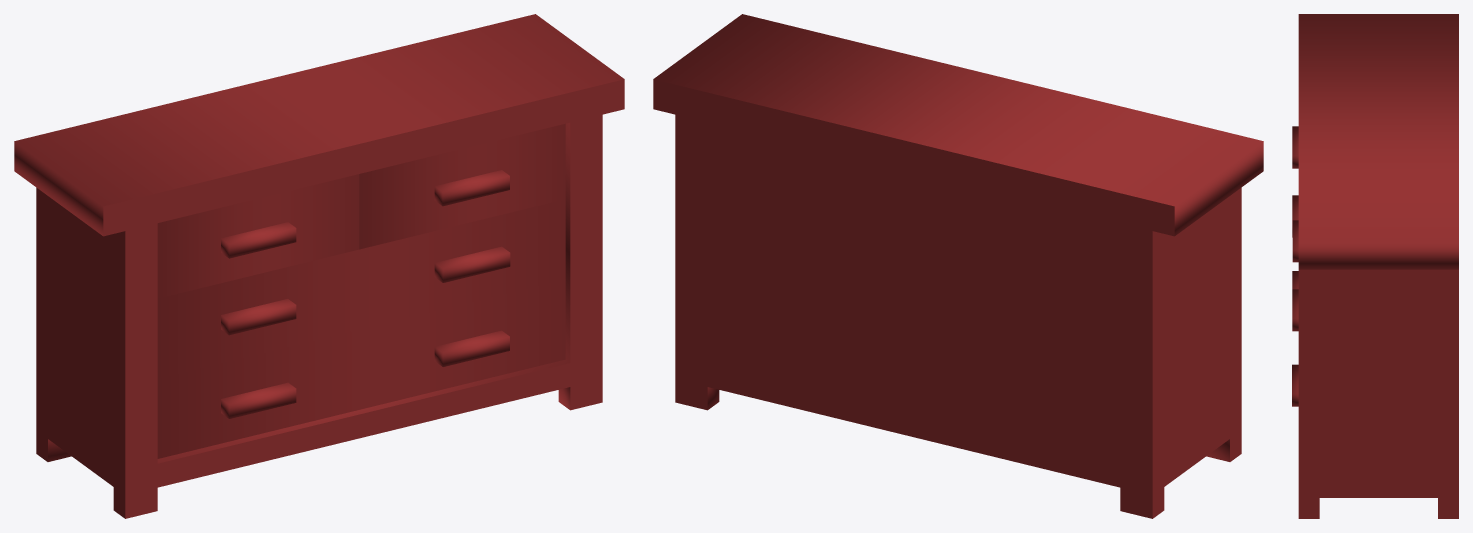
File: prop01_drawer_01.fbx
3 views of the same model, side by side, from view 1: azimuth 30°, elevation 25°; view 2: azimuth 150°, elevation 25°; view 3: azimuth 270°, elevation 25° (orthographic). The views are drawn at different scales.
Visible parts, largest first — view 1: Object030, Object035, Object034, Object033, Object032; view 2: Object030; view 3: Object030, Object034, Object035, Object032, Object033.
Part boxes in pixels (box(x1,y1,x2,y2)): Object030: box(14, 14, 624, 518); Object035: box(157, 279, 565, 458); Object034: box(157, 199, 565, 378); Object033: box(359, 123, 565, 249); Object032: box(157, 174, 359, 298); Object030: box(653, 14, 1263, 518); Object030: box(1298, 14, 1458, 518); Object034: box(1292, 195, 1298, 331); Object035: box(1292, 271, 1298, 406); Object032: box(1292, 126, 1298, 168); Object033: box(1292, 220, 1298, 262).
Size of the model in its own units: 124 by 72.14 by 38.15.
